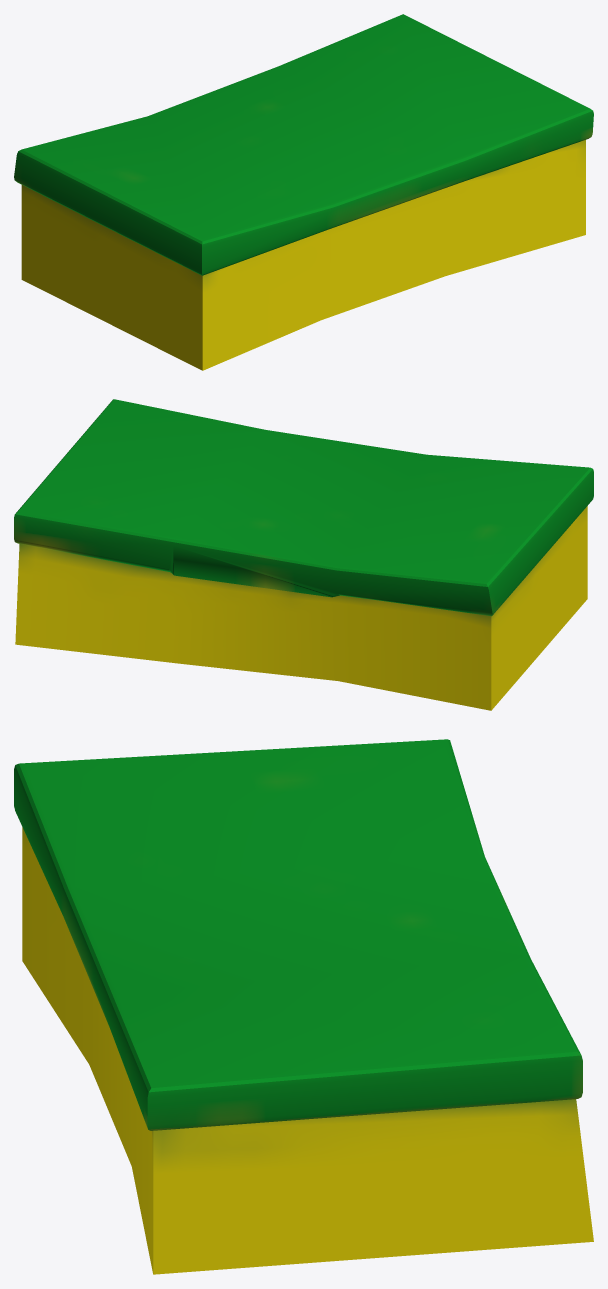
File: Estropajo_00.FBX
The picture shows the model from 3 angles, top to bottom: view 1: azimuth 30°, elevation 25°; view 2: azimuth 150°, elevation 25°; view 3: azimuth 270°, elevation 25°; orthographic projection. The views are drawn at different scales.
Visible parts, largest first — view 1: Estropajo_v00; view 2: Estropajo_v00; view 3: Estropajo_v00.
Part boxes in pixels (<box>): Estropajo_v00: <box>14,14,593,370</box>; Estropajo_v00: <box>14,399,593,710</box>; Estropajo_v00: <box>14,739,593,1274</box>.
Bounding box in the file's own units: 1.19 × 0.3114 × 0.8299.
1 material, 1 textured.
